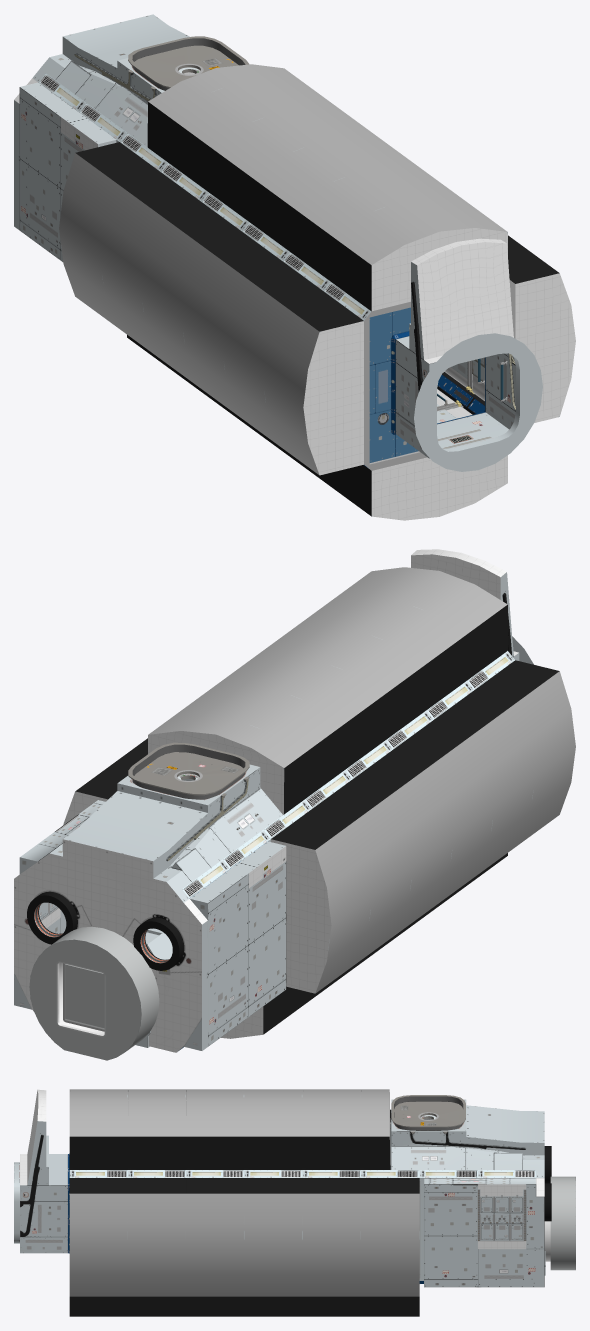
Rendered from JPM.fbx.
3 renders of one model, top to bottom at view 1: azimuth 30°, elevation 25°; view 2: azimuth 150°, elevation 25°; view 3: azimuth 270°, elevation 25°, orthographic. The views are drawn at different scales.
Visible parts, largest first — view 1: JPM_CollapsedForUnity.Starboard, JPM_CollapsedForUnity.Aft.Backing, JPM_CollapsedForUnity.Zenith.Backing, JPM_CollapsedForUnity.Port, JPM_CollapsedForUnity.Aft, JPM_Hatch_Nadir_Closed, JPM_CollapsedForUnity.Nadir.Backing, JPM_CollapsedForUnity.Forward.Backing, JPM_CollapsedForUnity.Nadir, JPM_CollapsedForUnity.Forward; view 2: JPM_CollapsedForUnity.Port, JPM_CollapsedForUnity.Aft.Backing, JPM_CollapsedForUnity.Zenith.Backing, JPM_CollapsedForUnity.Airlock, JPM_CollapsedForUnity.Aft, JPM_CollapsedForUnity.Starboard, JPM_Hatch_Nadir_Closed, JPM_CollapsedForUnity.Nadir.Backing, JPM_CollapsedForUnity.Forward.Backing; view 3: JPM_CollapsedForUnity.Forward.Backing, JPM_CollapsedForUnity.Zenith.Backing, JPM_CollapsedForUnity.Port, JPM_CollapsedForUnity.Nadir.Backing, JPM_CollapsedForUnity.Starboard, JPM_CollapsedForUnity.Airlock, JPM_CollapsedForUnity.Zenith, JPM_Hatch_Nadir_Closed, JPM_CollapsedForUnity.Forward.
Part boxes in pixels (x1,y1,x2,y2): JPM_CollapsedForUnity.Starboard: (303, 228, 575, 520); JPM_CollapsedForUnity.Aft.Backing: (59, 142, 363, 474); JPM_CollapsedForUnity.Zenith.Backing: (147, 64, 507, 311); JPM_CollapsedForUnity.Port: (14, 14, 248, 261); JPM_CollapsedForUnity.Aft: (116, 133, 371, 320); JPM_Hatch_Nadir_Closed: (134, 45, 238, 85); JPM_CollapsedForUnity.Nadir.Backing: (127, 335, 475, 516); JPM_CollapsedForUnity.Forward.Backing: (442, 235, 559, 405); JPM_CollapsedForUnity.Nadir: (364, 374, 484, 469); JPM_CollapsedForUnity.Forward: (444, 360, 484, 400); JPM_CollapsedForUnity.Port: (14, 742, 286, 1052); JPM_CollapsedForUnity.Aft.Backing: (271, 660, 575, 993); JPM_CollapsedForUnity.Zenith.Backing: (148, 567, 507, 814); JPM_CollapsedForUnity.Airlock: (29, 926, 172, 1060); JPM_CollapsedForUnity.Aft: (263, 651, 514, 841); JPM_CollapsedForUnity.Starboard: (411, 549, 533, 664); JPM_Hatch_Nadir_Closed: (134, 752, 243, 792); JPM_CollapsedForUnity.Nadir.Backing: (221, 853, 507, 1038); JPM_CollapsedForUnity.Forward.Backing: (63, 738, 147, 824); JPM_CollapsedForUnity.Forward.Backing: (69, 1178, 419, 1296); JPM_CollapsedForUnity.Zenith.Backing: (69, 1089, 390, 1169); JPM_CollapsedForUnity.Port: (391, 1095, 551, 1287); JPM_CollapsedForUnity.Nadir.Backing: (69, 1296, 419, 1316); JPM_CollapsedForUnity.Starboard: (14, 1089, 69, 1253); JPM_CollapsedForUnity.Airlock: (544, 1176, 575, 1275); JPM_CollapsedForUnity.Zenith: (69, 1122, 419, 1177); JPM_Hatch_Nadir_Closed: (394, 1101, 463, 1125); JPM_CollapsedForUnity.Forward: (76, 1172, 423, 1280).
Size of the model in its own units: 4145 by 4178 by 10334.
